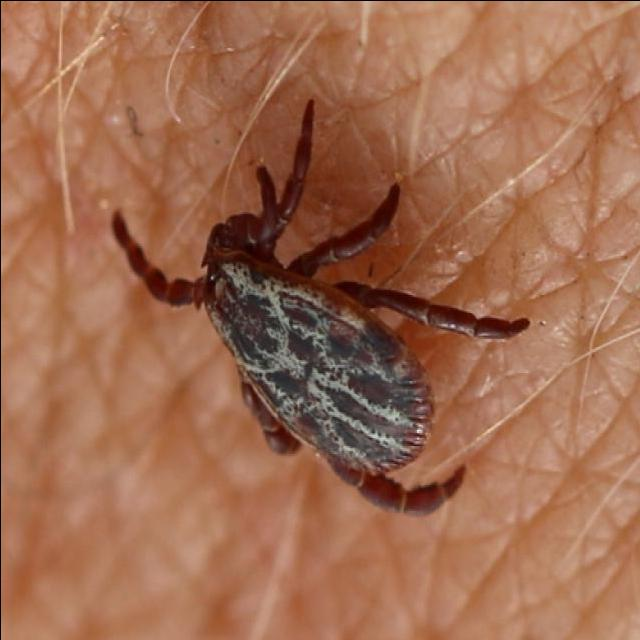Dermacentor Reticulatus-M: (111, 99, 527, 515)
